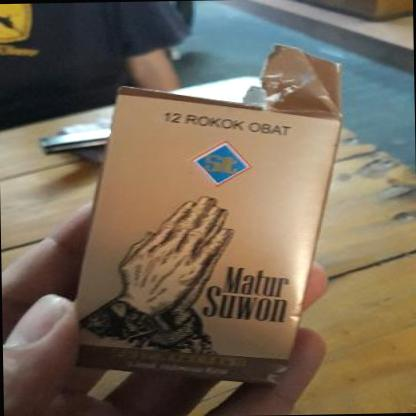objects: (72, 83, 346, 385)
